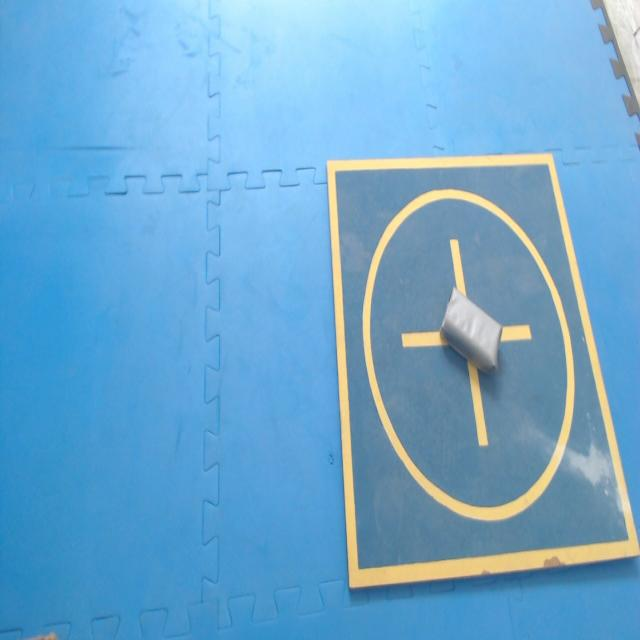lipo: (440, 287, 502, 372)
